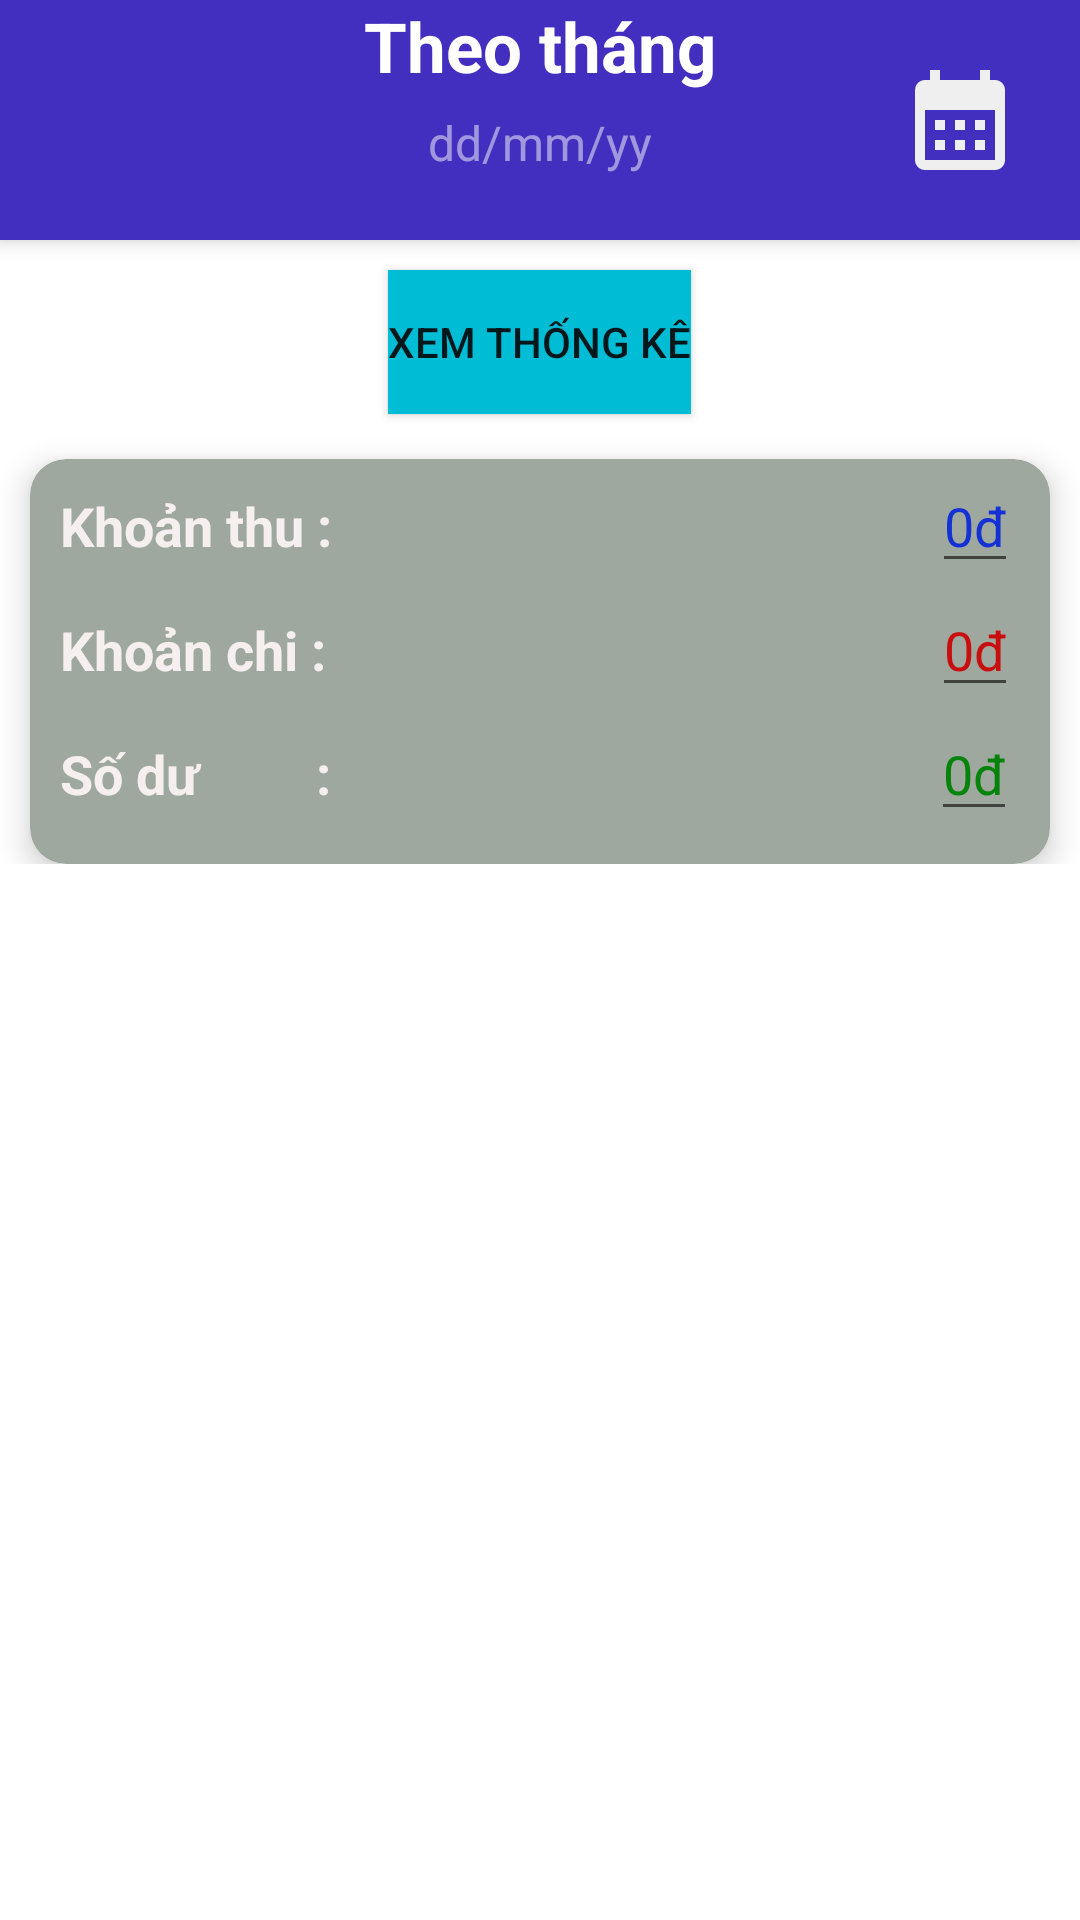

Named icons in this screenshot (1080*1920) and their centers, (x,y):
Calendar: (960,120)
